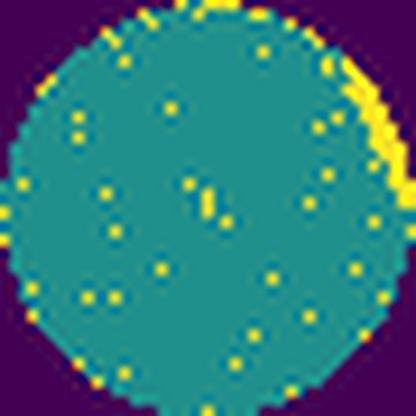Edge-Loc: (338, 52, 416, 208)
